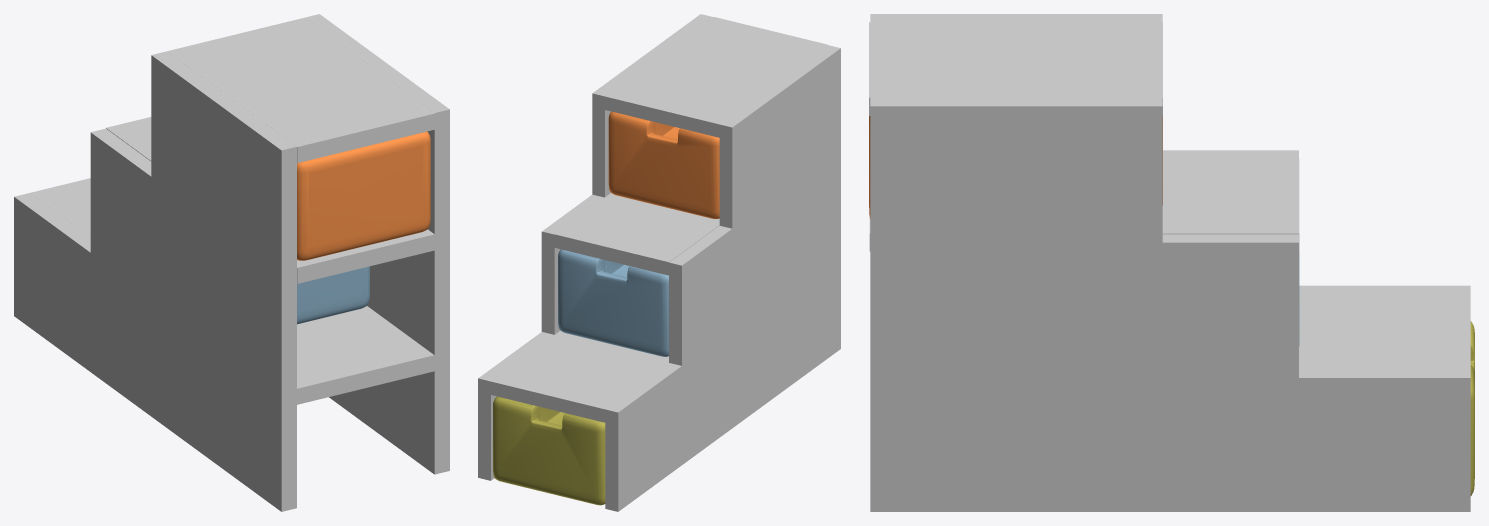
File: Cajonera.fbx
3 renders of one model, left to right at view 1: azimuth 30°, elevation 25°; view 2: azimuth 150°, elevation 25°; view 3: azimuth 270°, elevation 25°, orthographic. The views are drawn at different scales.
Visible parts, largest first — view 1: Estante escalera, Cajón escalera 3, Cajón escalera 2; view 2: Estante escalera, Cajón escalera 1, Cajón escalera 3, Cajón escalera 2; view 3: Estante escalera, Cajón escalera 1.
Boxes of the visible parts, x1,y1,x2,y2 form: Estante escalera: (14, 14, 449, 511); Cajón escalera 3: (297, 131, 430, 260); Cajón escalera 2: (297, 266, 369, 324); Estante escalera: (478, 14, 840, 511); Cajón escalera 1: (493, 396, 605, 505); Cajón escalera 3: (608, 111, 719, 218); Cajón escalera 2: (558, 249, 668, 356); Estante escalera: (869, 14, 1470, 511); Cajón escalera 1: (1470, 321, 1474, 495).
Size of the model in its own units: 4.03 by 8.27 by 11.19.
